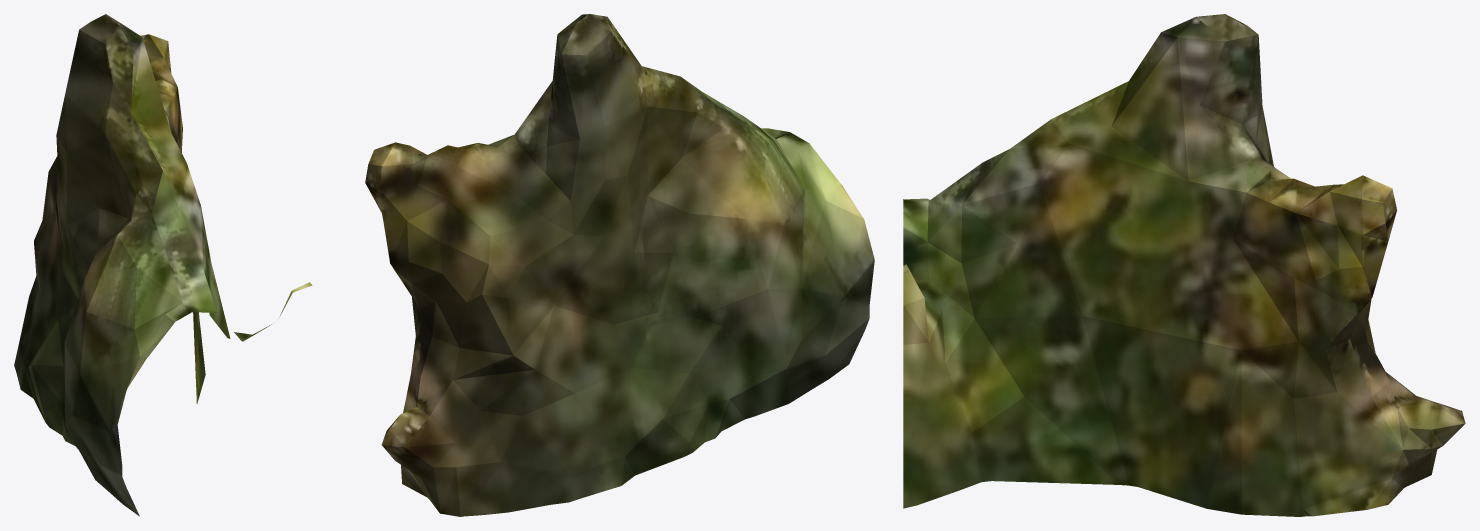
3 renders of one model, left to right at view 1: azimuth 30°, elevation 25°; view 2: azimuth 150°, elevation 25°; view 3: azimuth 270°, elevation 25°, orthographic. The views are drawn at different scales.
Size of the model in its own units: 0.3131 by 0.4586 by 0.5282.
2 materials, 2 textured.
